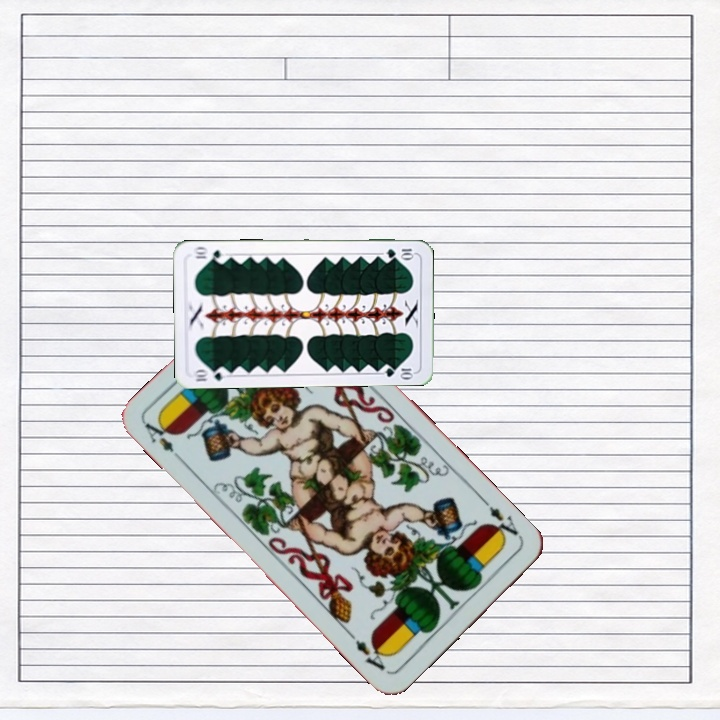EA: (140, 414, 187, 465), (479, 496, 525, 544)
G10: (189, 364, 230, 384), (382, 245, 417, 260)
